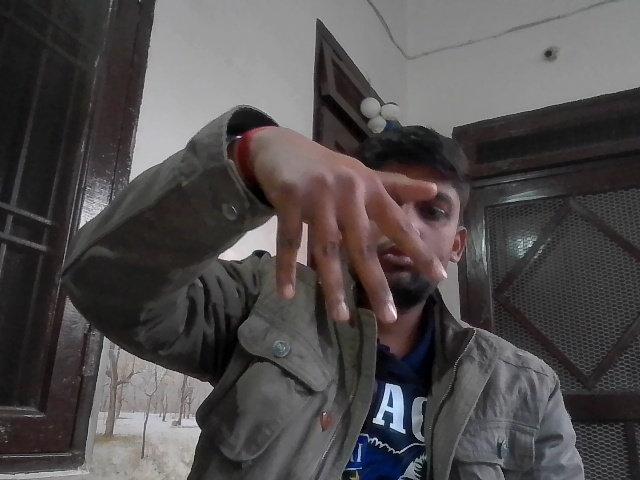HowAreYou: (238, 123, 466, 349)
